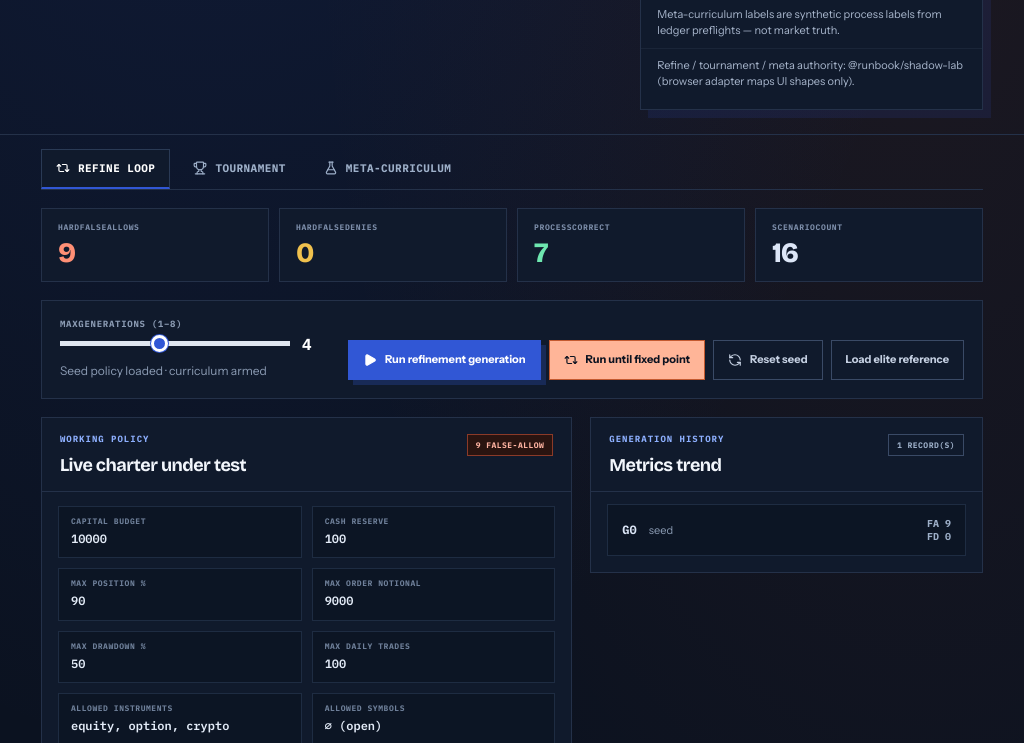
Scenario: Shadow Process Lab › runs one refinement generation and reduces false allows
(page scrolled)
Click the button "Run refinement generation": [444, 360] box [348, 340, 540, 380]
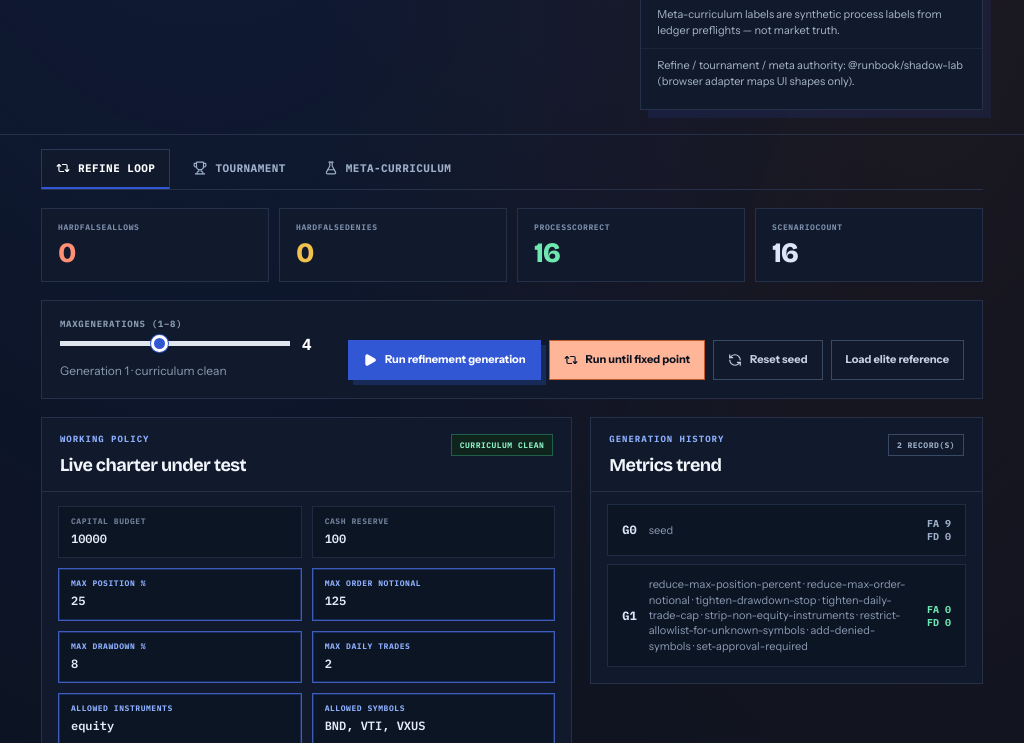
Expected: the text "G1" is shown, [622, 610, 637, 622]
